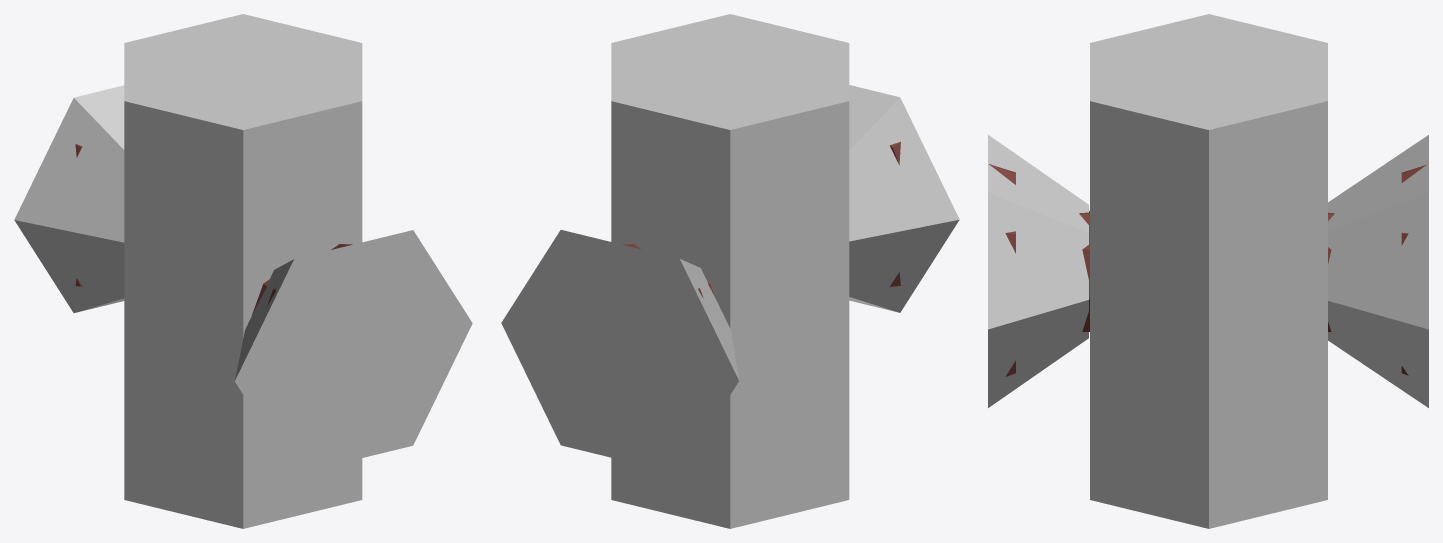
The model's file is SM_PipeMiddle_02.fbx.
The picture shows the model from 3 angles, left to right: view 1: azimuth 30°, elevation 25°; view 2: azimuth 150°, elevation 25°; view 3: azimuth 270°, elevation 25°; orthographic projection.
Visible parts, largest first — view 1: SM_PipeMiddle_02_ConvexHulls; view 2: SM_PipeMiddle_02_ConvexHulls; view 3: SM_PipeMiddle_02_ConvexHulls, SM_PipeMiddle_02.
Boxes of the visible parts, <box> form: SM_PipeMiddle_02_ConvexHulls: <box>14,14,472,528</box>; SM_PipeMiddle_02_ConvexHulls: <box>501,14,959,528</box>; SM_PipeMiddle_02_ConvexHulls: <box>988,14,1428,528</box>; SM_PipeMiddle_02: <box>989,164,1426,376</box>.
Size of the model in its own units: 42.14 by 67.62 by 67.49.
